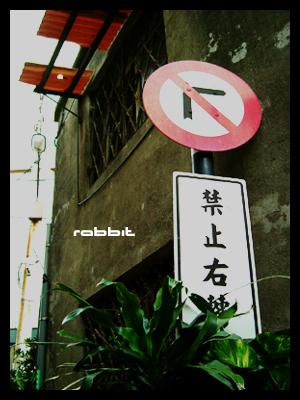no_right_turn: (142, 58, 262, 151)
